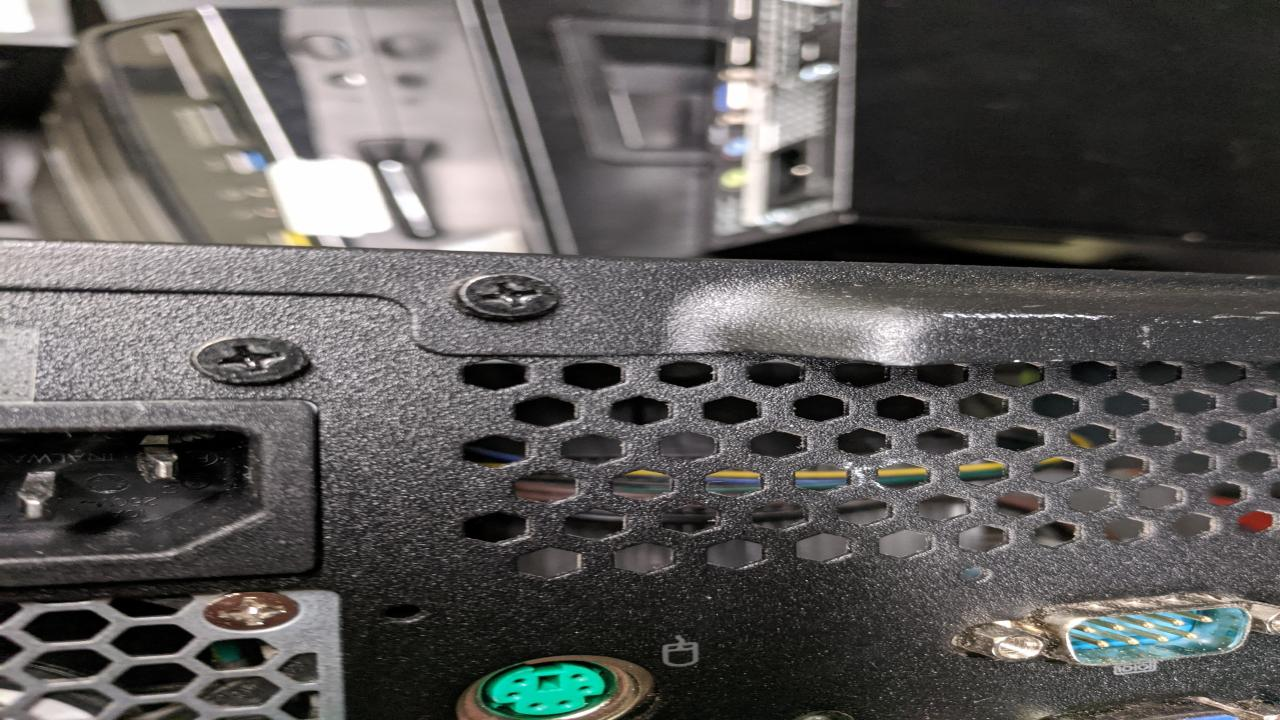CRS: (195, 336, 312, 386), (454, 273, 563, 318), (205, 590, 302, 632)
